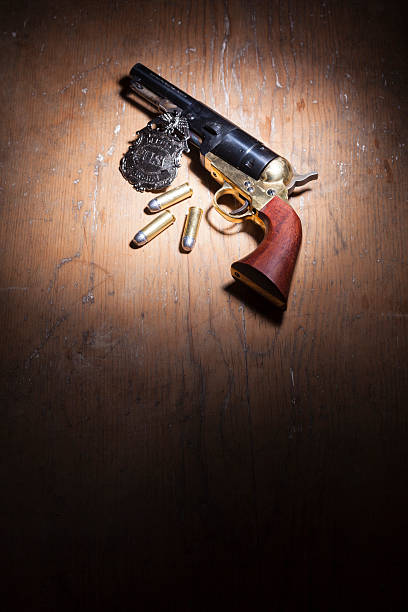gun: (119, 63, 320, 323)
